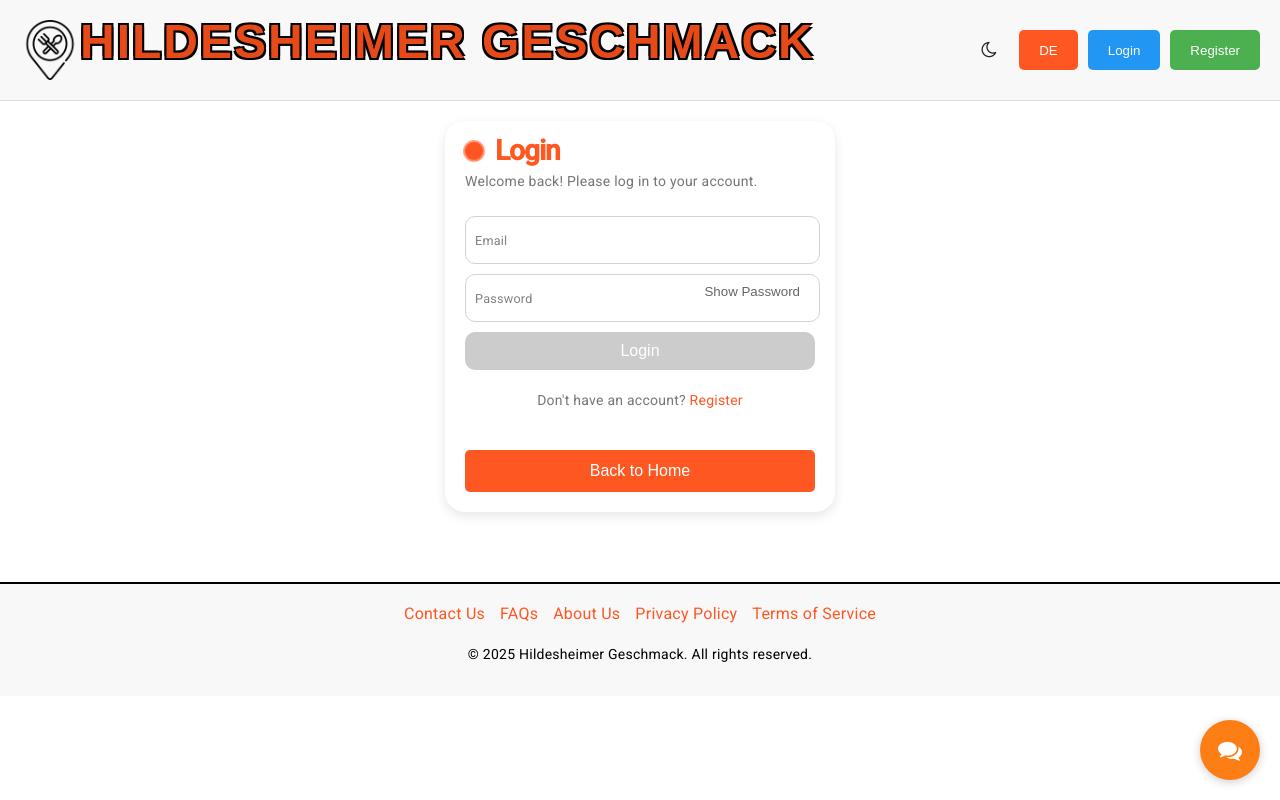
Test: Login Page › should toggle password visibility
The image size is (1280, 800).
Type "password123" into the password field named "password" at (643, 298), box top-left (465, 274), bottom-right (820, 322)
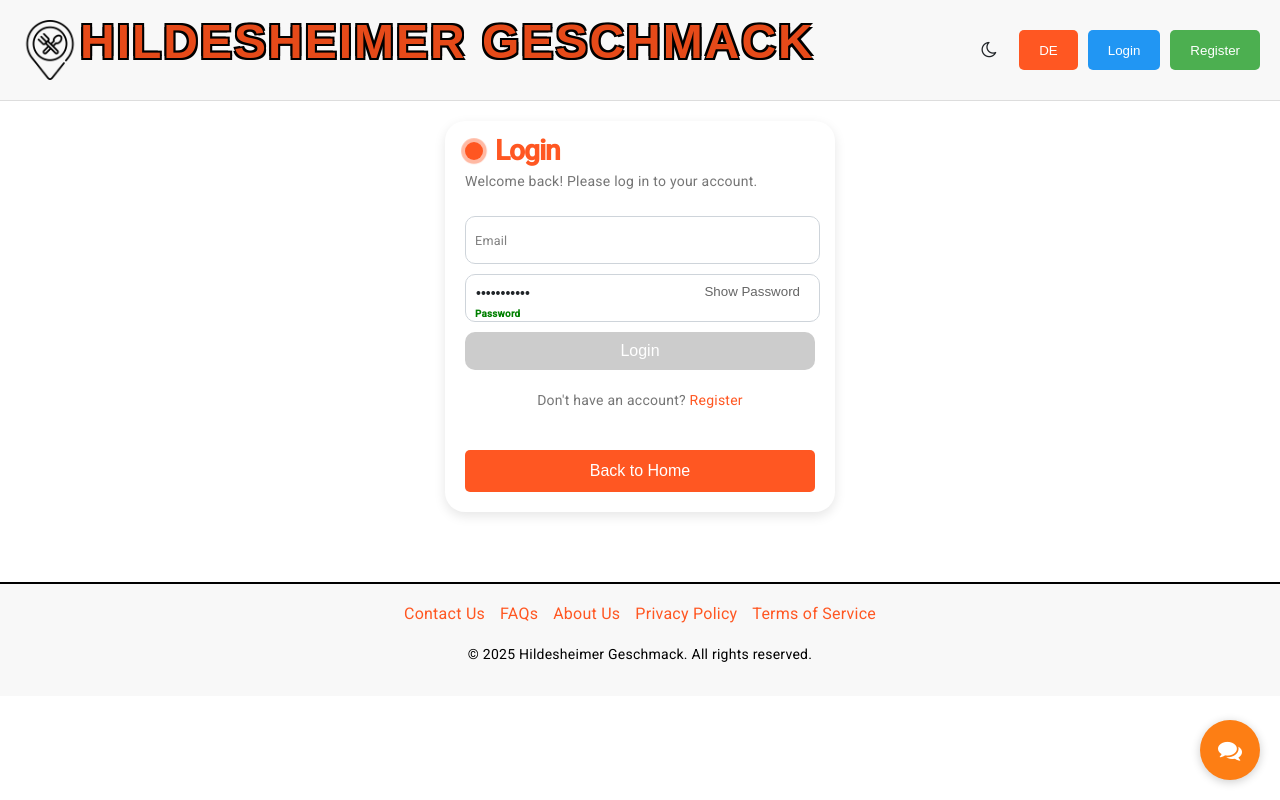
Click the button "Show Password" at (752, 292), box top-left (699, 284), bottom-right (805, 299)
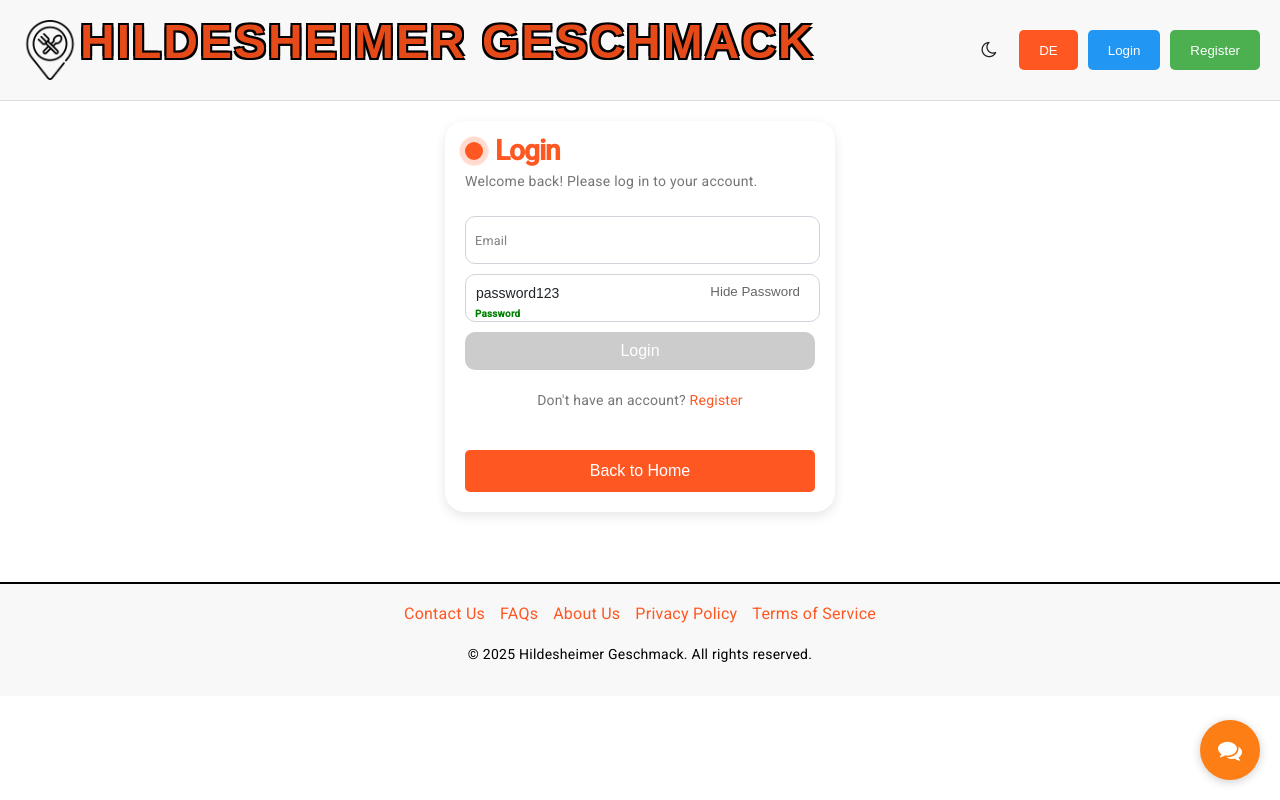
Expected: the field named "password" shows its text, top-left (465, 274), bottom-right (820, 322)
Click the button "Hide Password" at (755, 292), box top-left (705, 284), bottom-right (805, 299)
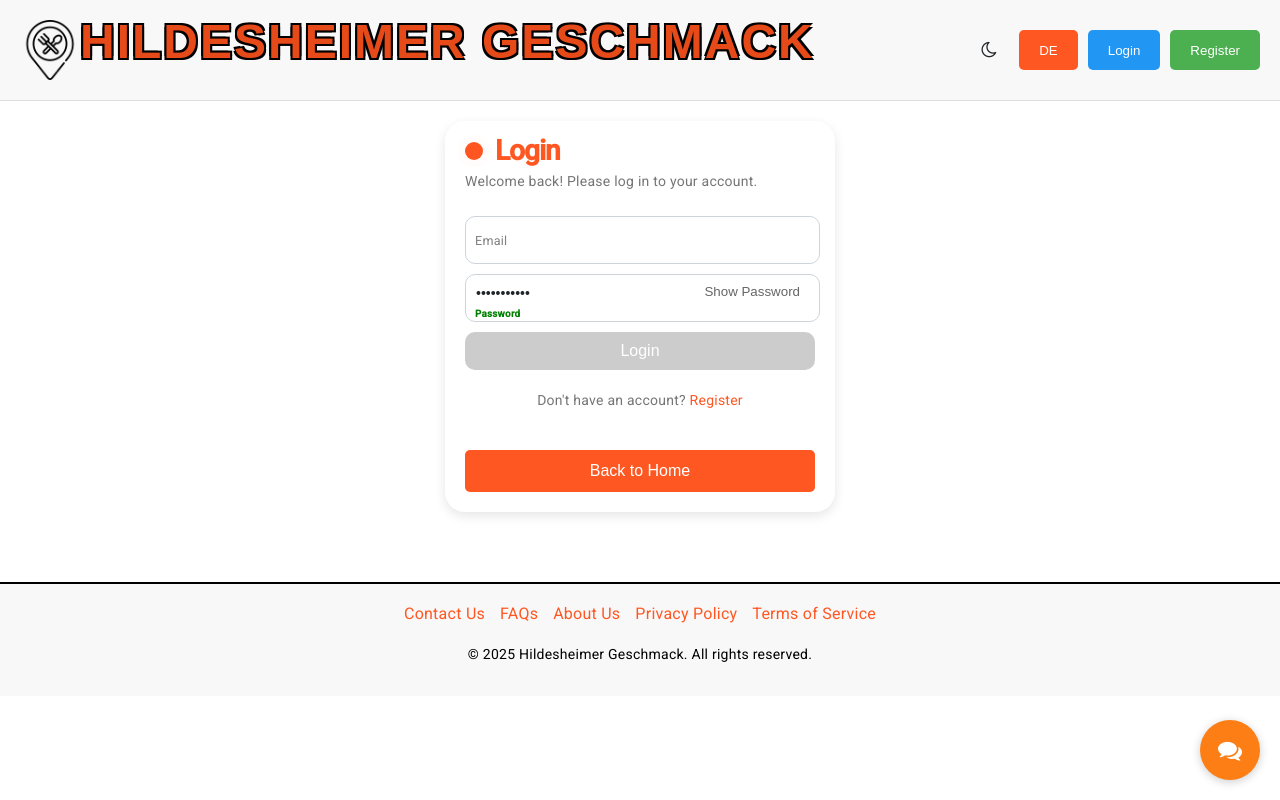
Expected: the password field named "password" hides its text, top-left (465, 274), bottom-right (820, 322)
